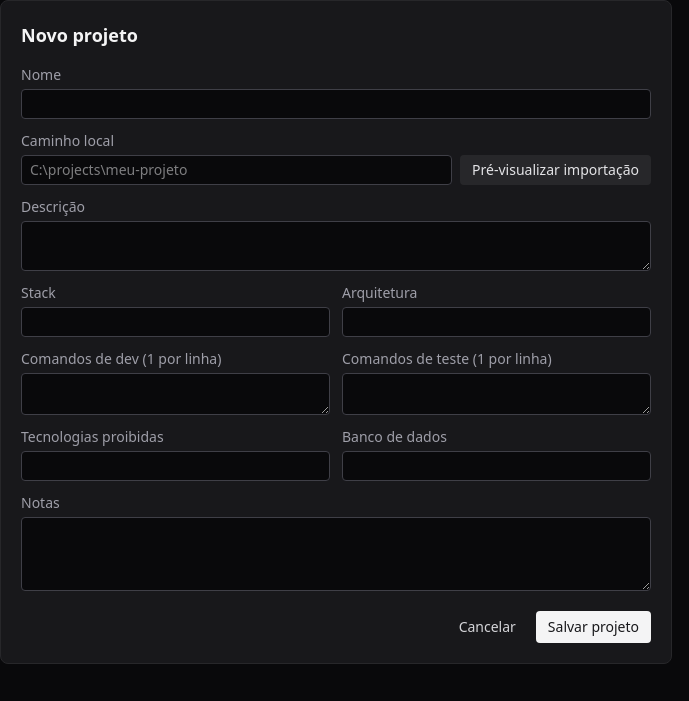
Test: ProjectForm › shows the backend validation error when the path is invalid
The width and height of the screenshot is (689, 701).
Type "C:\\projects\\..\\Windows" into the field with placeholder "C:\\projects\\meu-projeto" at (237,170), box [21, 155, 452, 185]
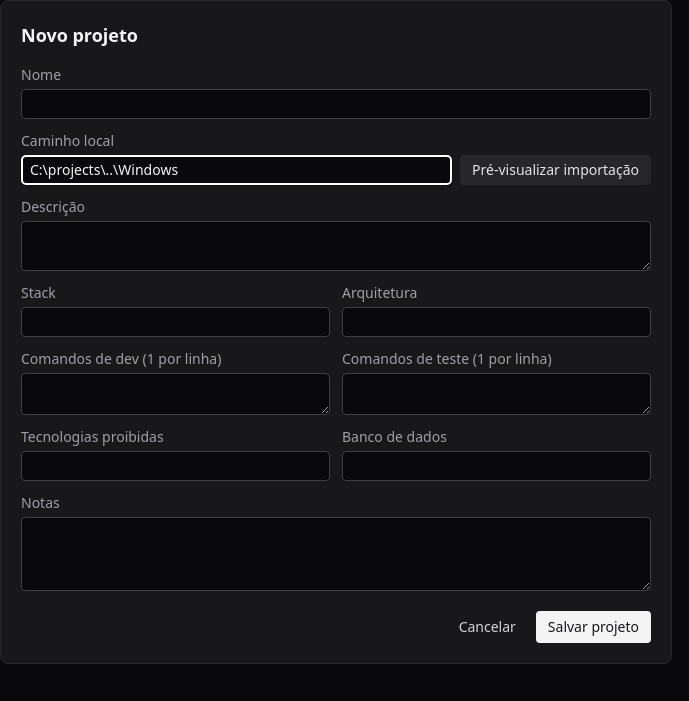
Press Tab
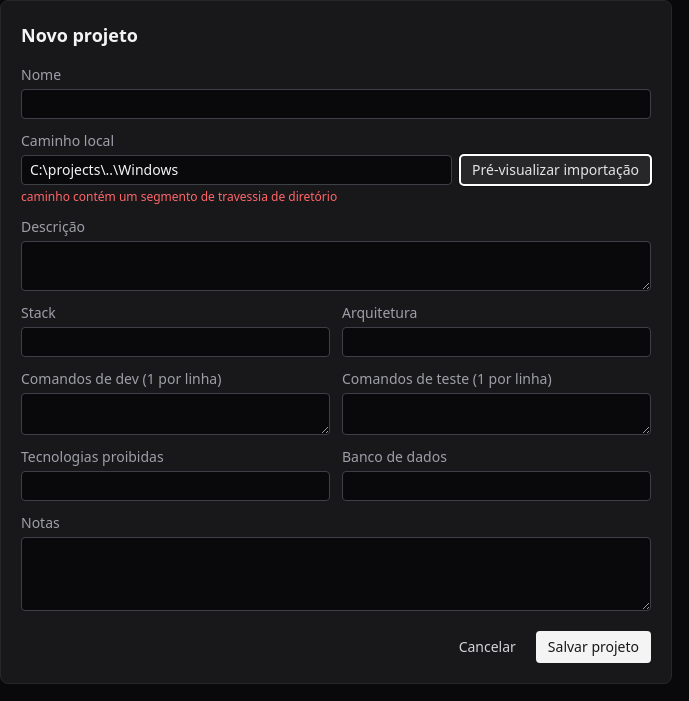
Expected: the text "caminho contém um segmento de travessia de diretório" is shown, [21, 188, 337, 205]
